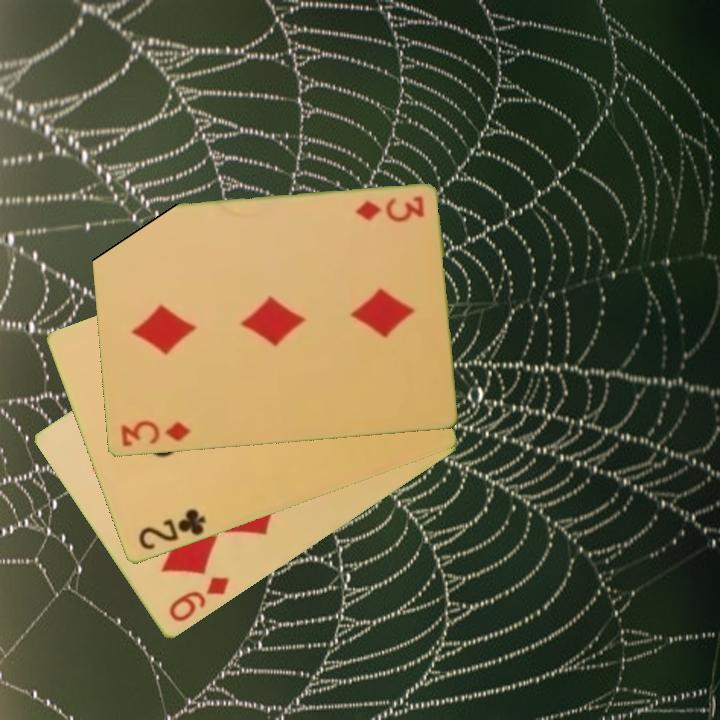2c: (134, 505, 209, 553)
3d: (117, 417, 193, 450), (351, 193, 427, 224)
9d: (165, 573, 233, 626)
